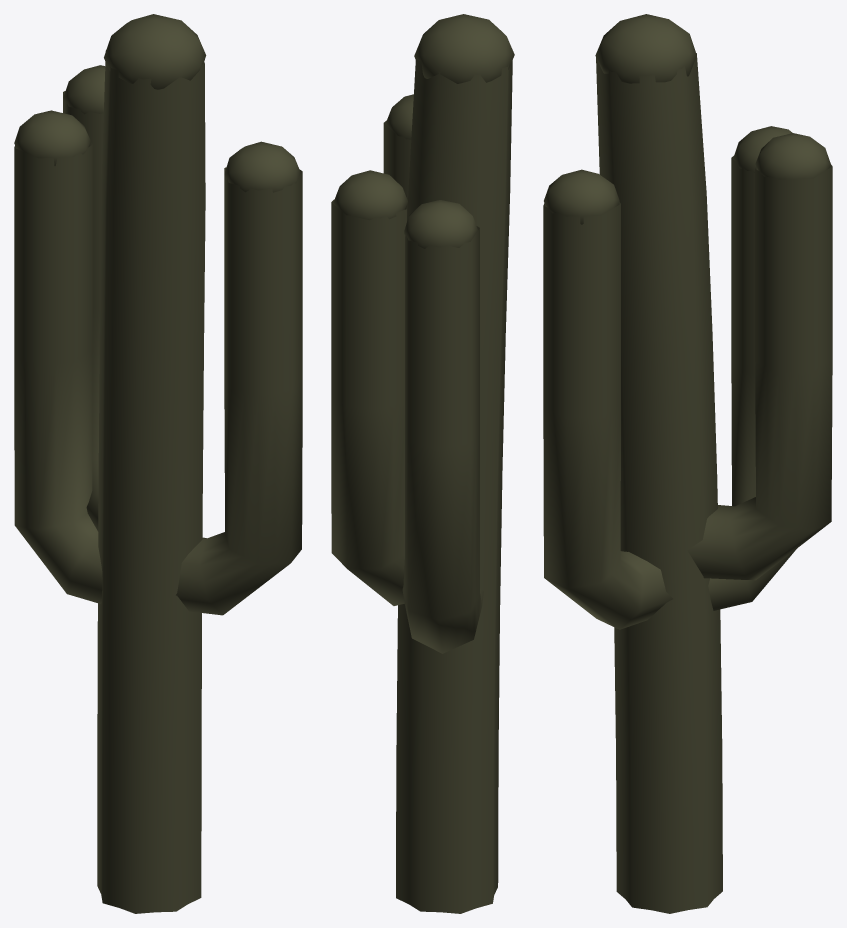
The model's file is saguaro_1_burnt2.glb.
The picture shows the model from 3 angles, left to right: view 1: azimuth 30°, elevation 25°; view 2: azimuth 150°, elevation 25°; view 3: azimuth 270°, elevation 25°; orthographic projection.
Visible parts, largest first — view 1: saguaro_1_burnt2; view 2: saguaro_1_burnt2; view 3: saguaro_1_burnt2.
Part boxes in pixels (x1=…): saguaro_1_burnt2: x1=14, y1=14, x2=302, y2=913; saguaro_1_burnt2: x1=331, y1=14, x2=514, y2=913; saguaro_1_burnt2: x1=543, y1=14, x2=832, y2=913.
Bounding box in the file's own units: 1.27 × 5.91 × 1.78.
